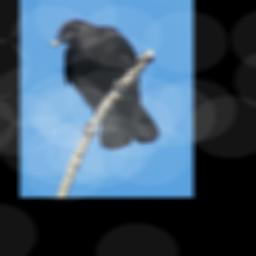Crow: (50, 18, 160, 151)
